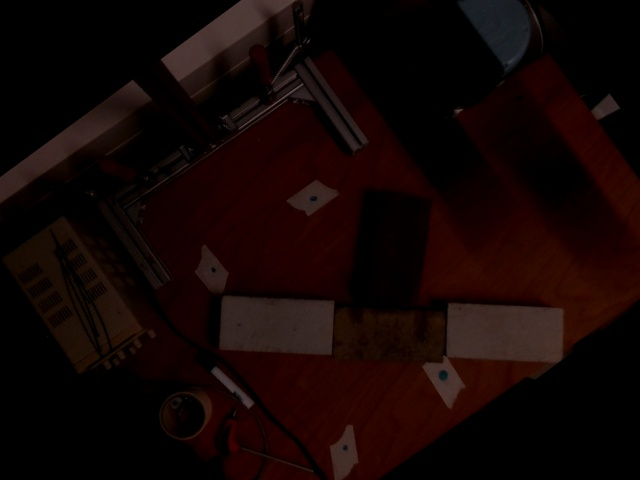brick: (365, 190, 429, 310), (218, 298, 330, 352), (334, 309, 446, 363), (447, 306, 558, 360)
